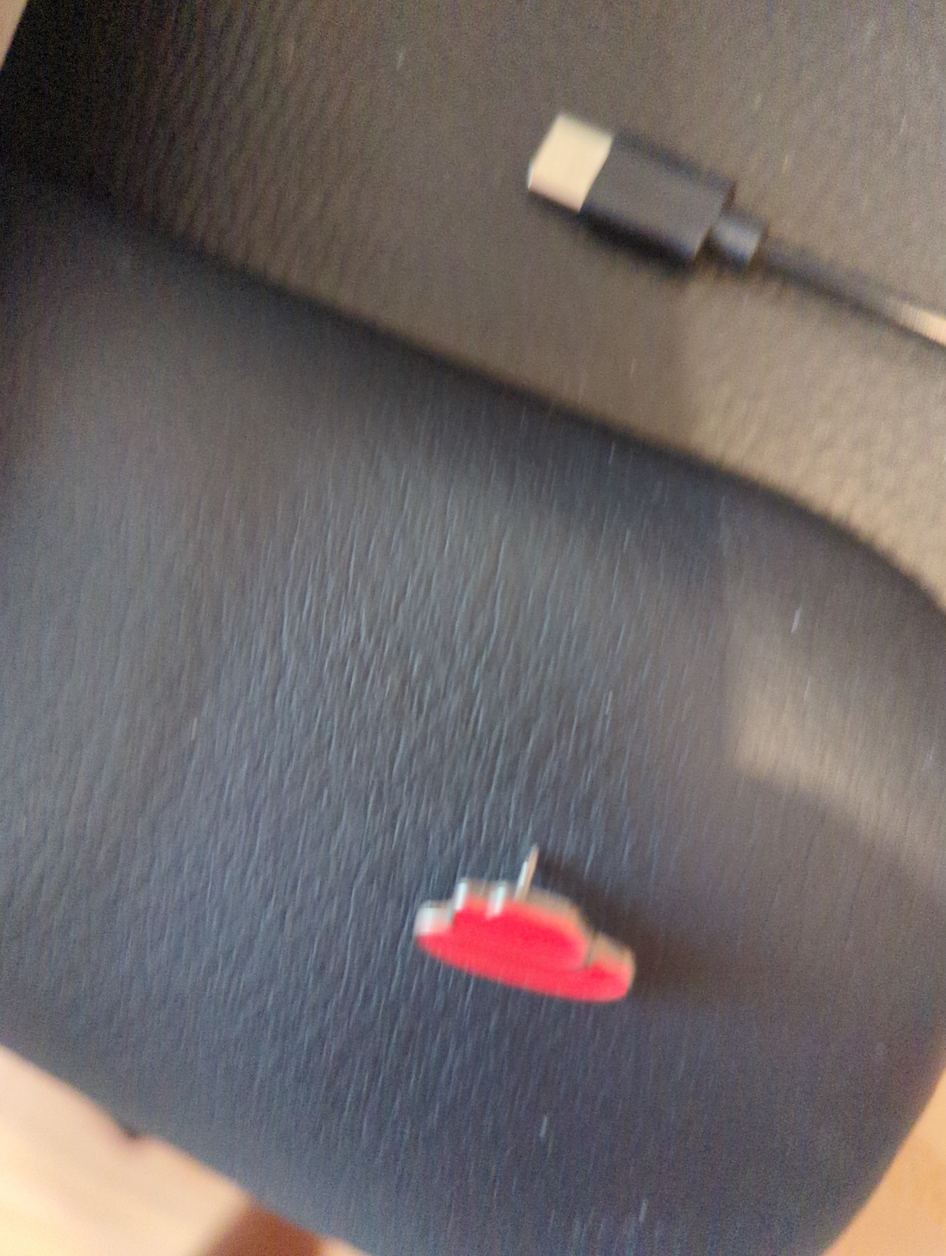Red-Hat: (375, 796, 731, 1064)
